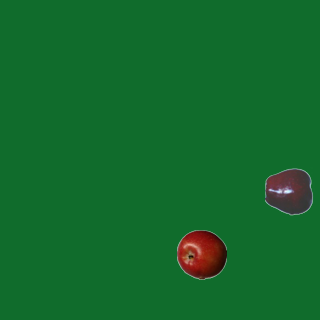Apple Braeburn: (176, 229, 226, 279)
Apple Red Delicious: (264, 166, 314, 216)
